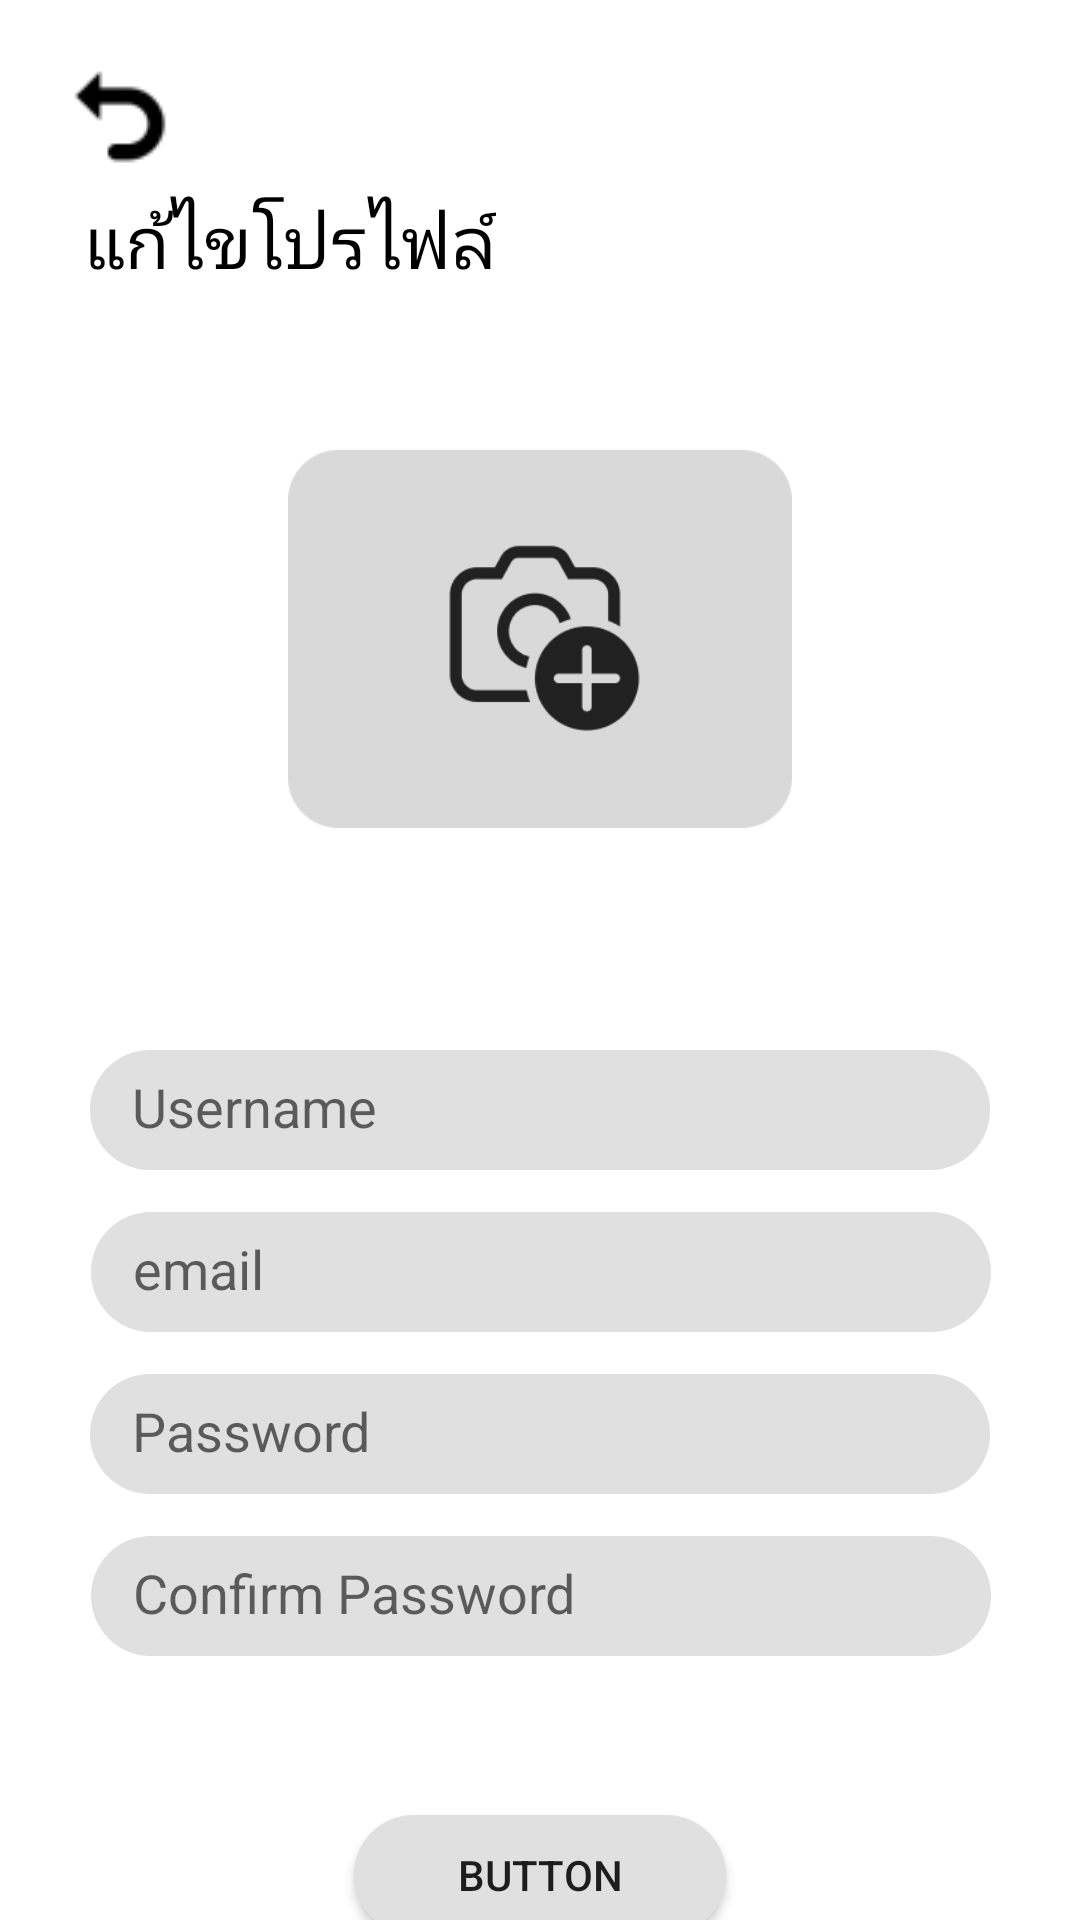

Where to tap for icons on this 1080 × 1920 app screen, as (x=x, y=y):
undo: (x=120, y=117)
